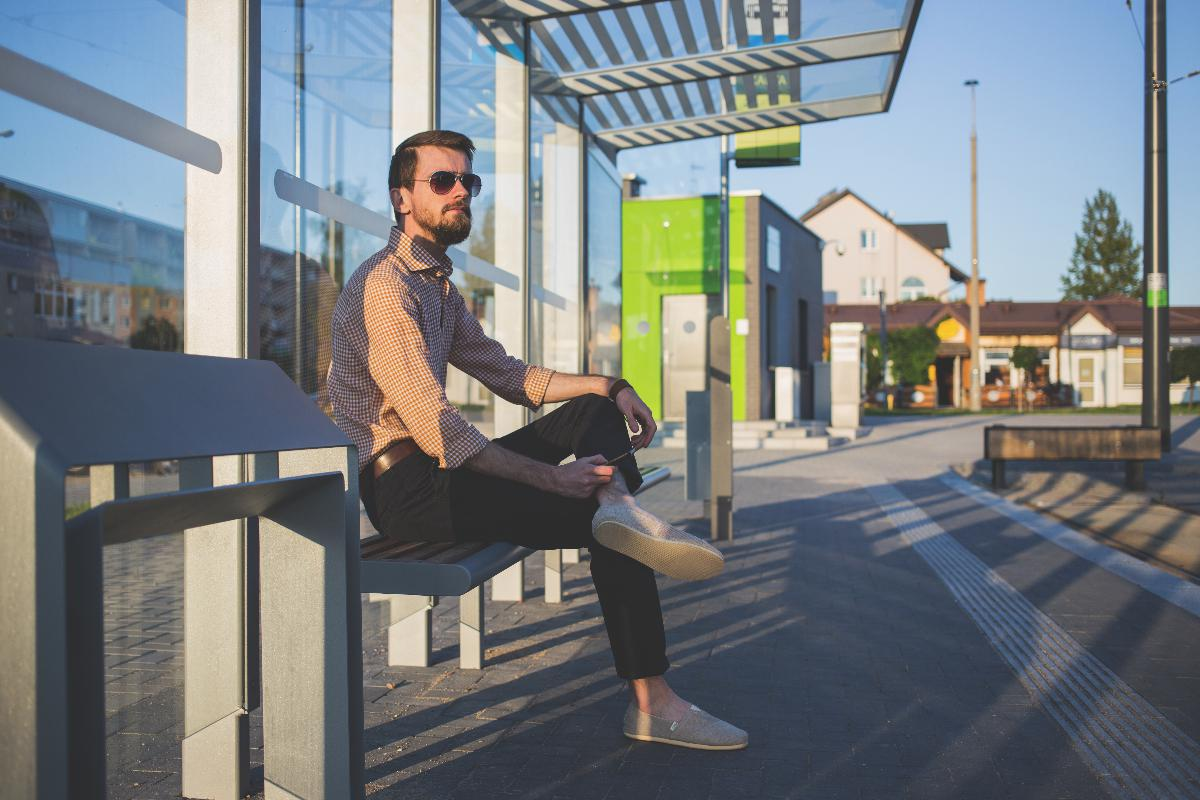Person: (321, 132, 754, 747)
